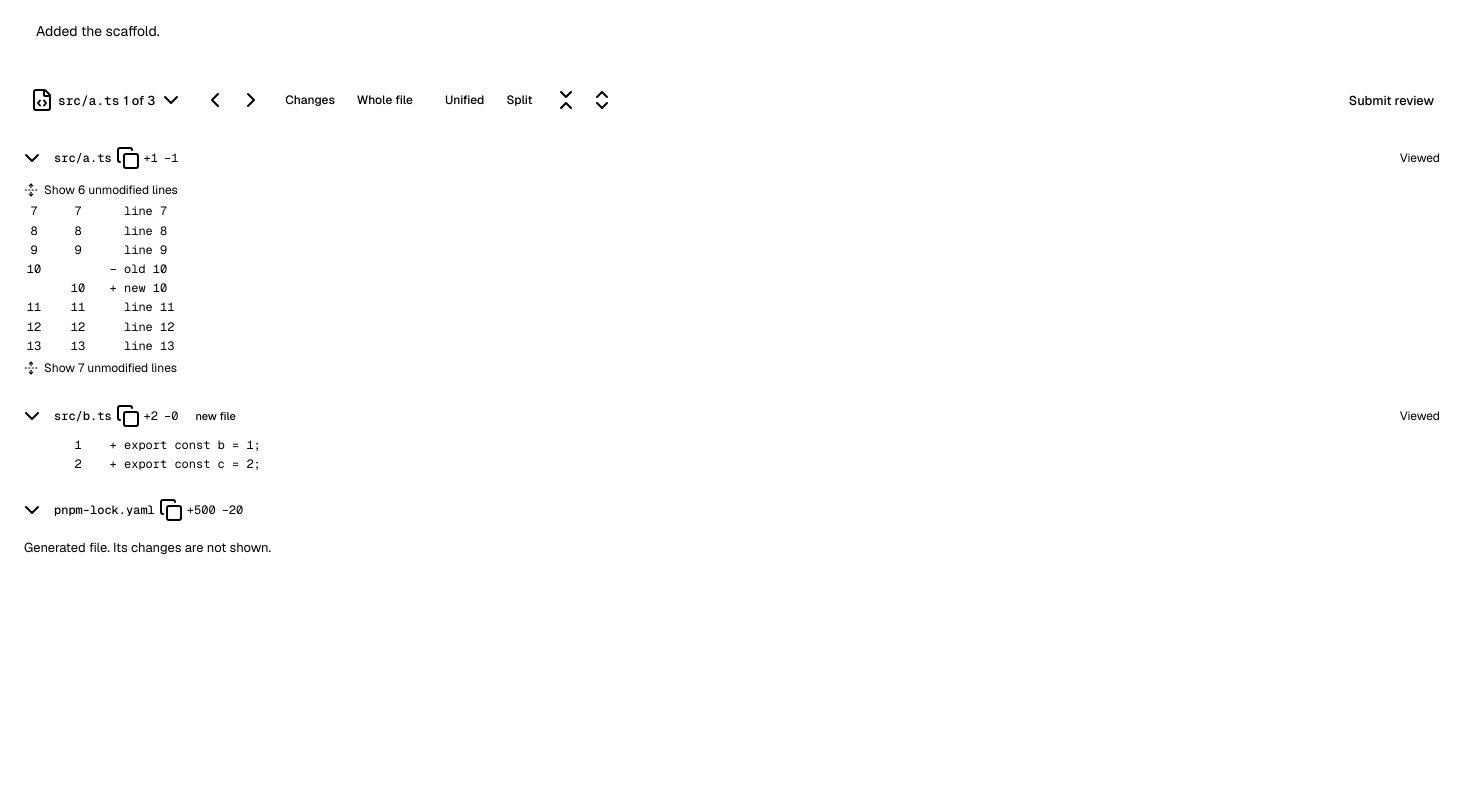
Test: text typed in the comment box stays when the range is extended
Click the button named "Select line 9".
click(78, 250)  # box [56,242,100,258]
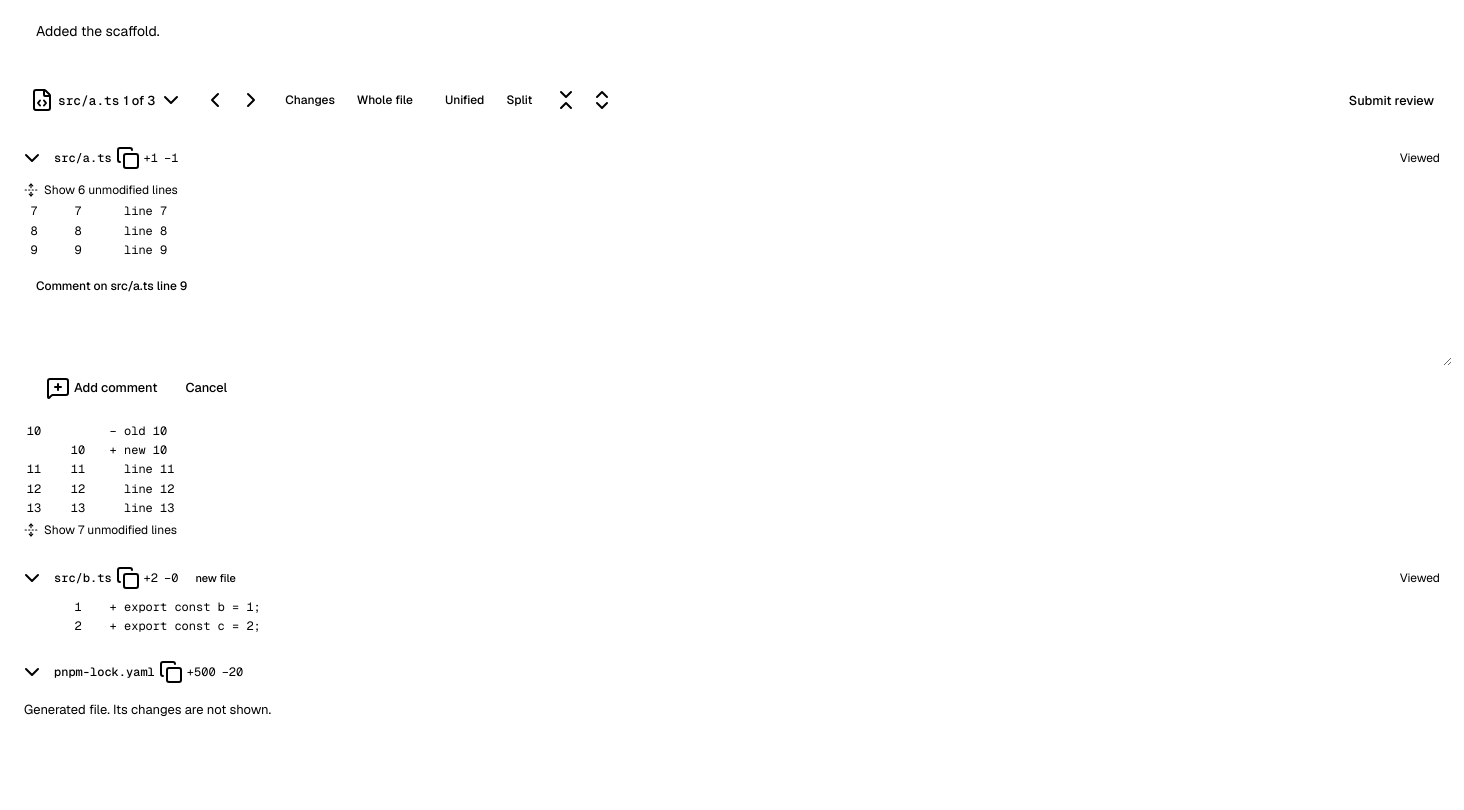
Type "Half a thought" into the text box labelled "Comment on src/a.ts line 9".
click(744, 334); type("Half a thought")  # box [36,302,1452,366]
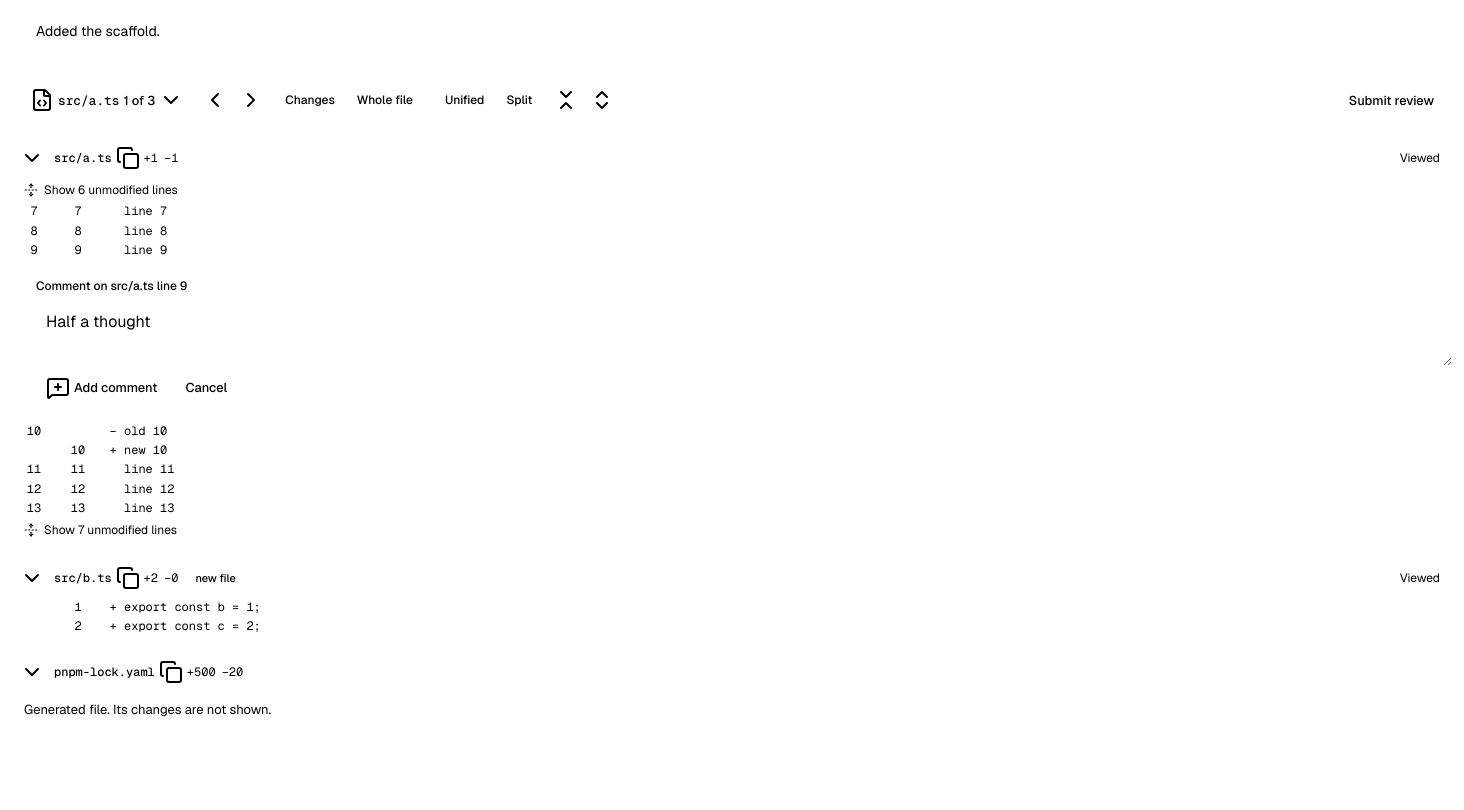
Click the button named "Select line 11".
click(78, 469)  # box [56,461,100,477]
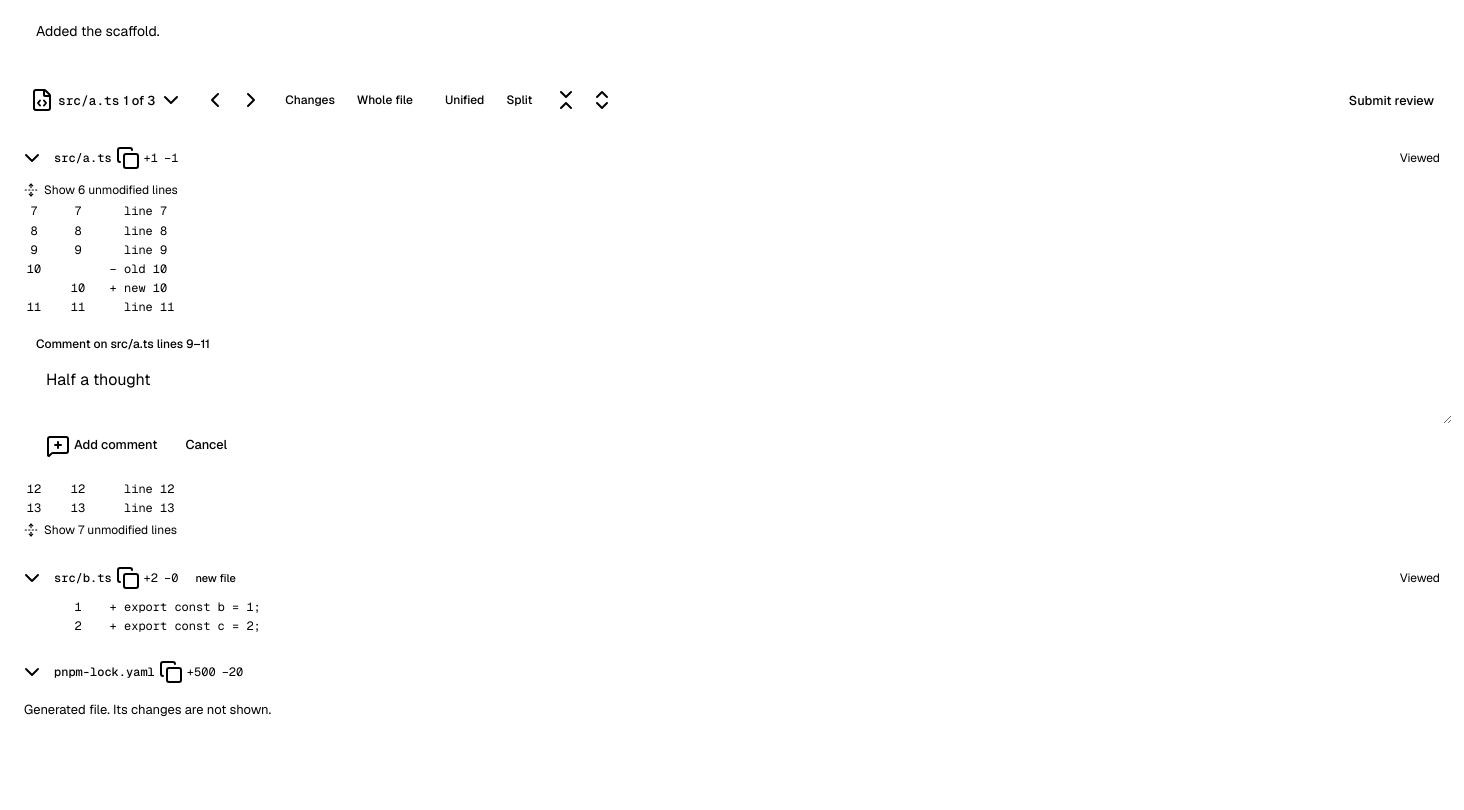
Result: the text box labelled "Comment on src/a.ts lines 9–11" holds "Half a thought" at [36,360,1452,424]
